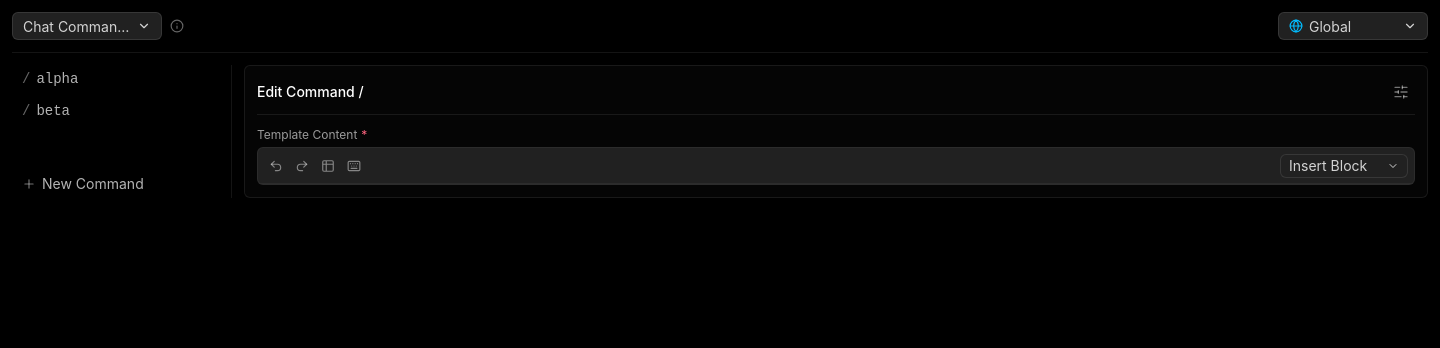
Test: CustomCommandSettings 命令行 › 以 role=button 暴露并支持点击切换选中后同步表单
Expected: the text "alpha" is shown, [36,71,78,87]
// 元数据字段默认折叠，展开后校验表单与选中命令同步。
Click the button named "Edit Details".
click(1401, 92)  # box [1387,78,1415,106]
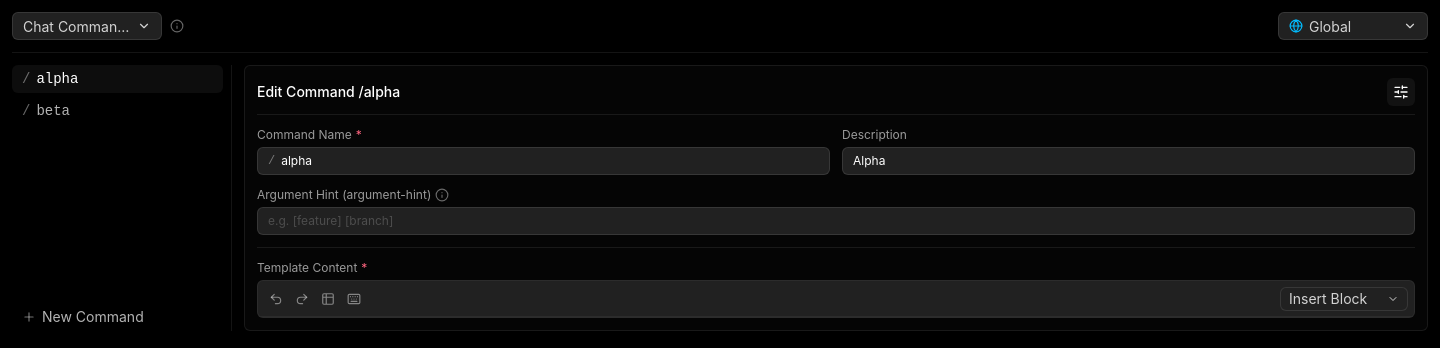
Expected: the field showing "alpha" is shown, [281,153,819,169]
Click the button "/ beta".
click(46, 111)  # box [22,103,70,119]
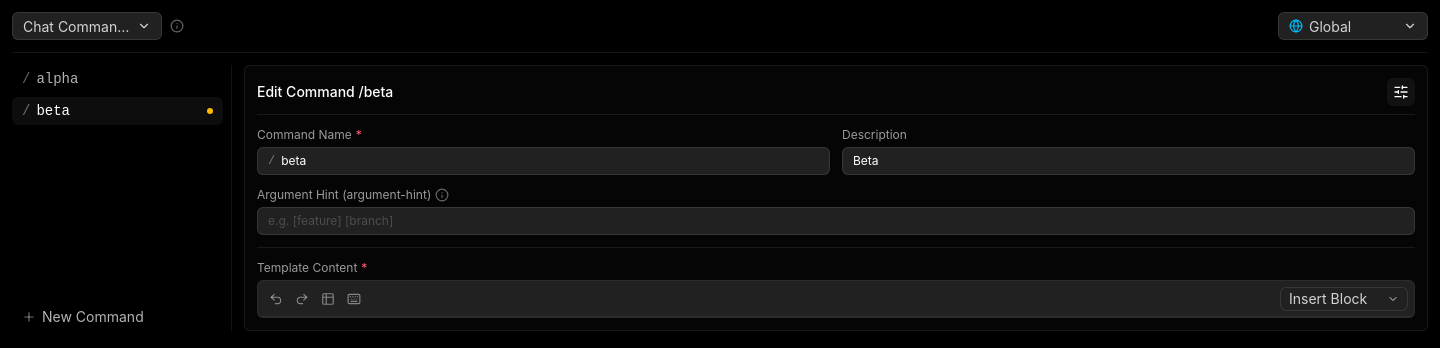
Expected: the field showing "beta" is shown, [281,153,819,169]
